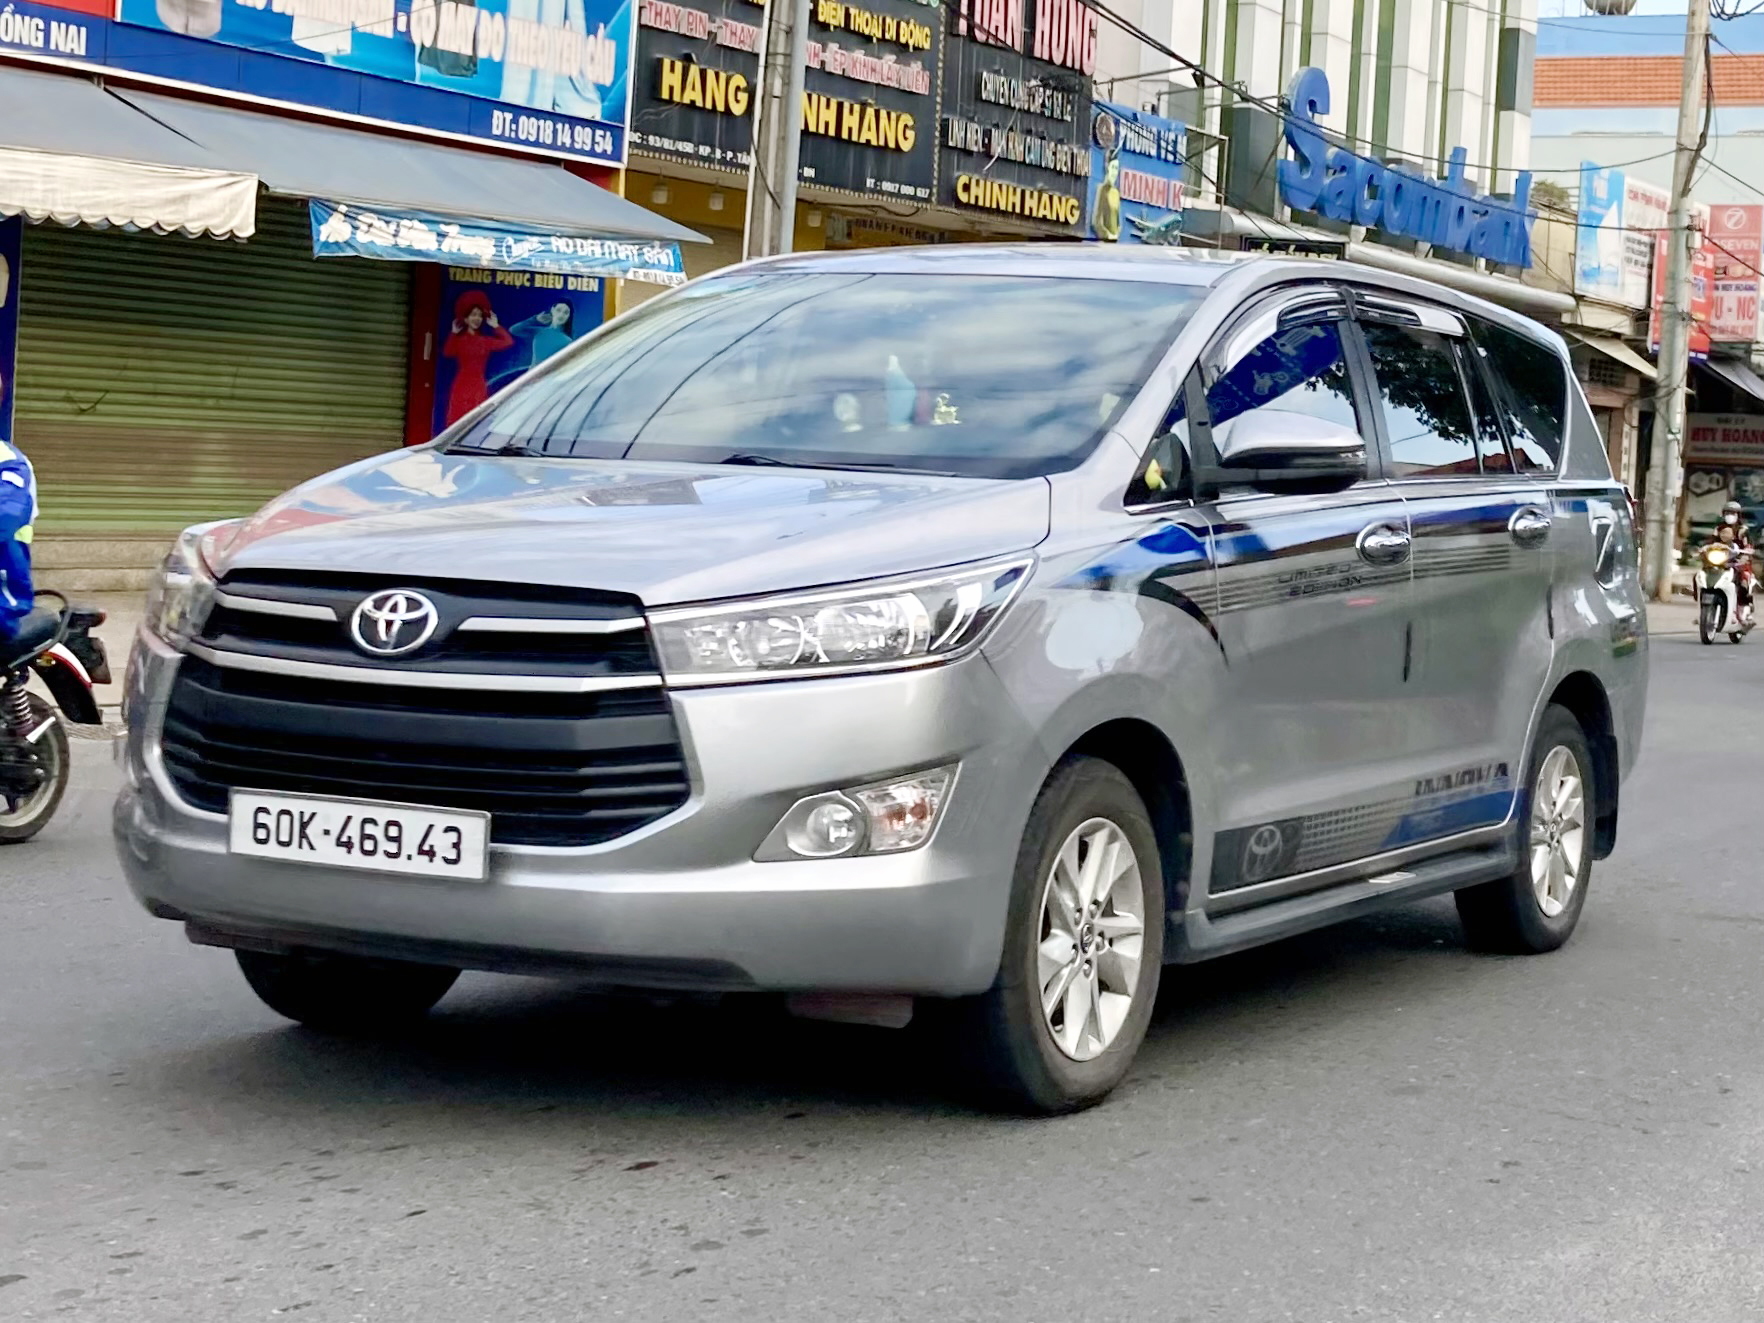bien_so: (230, 787, 488, 883)
